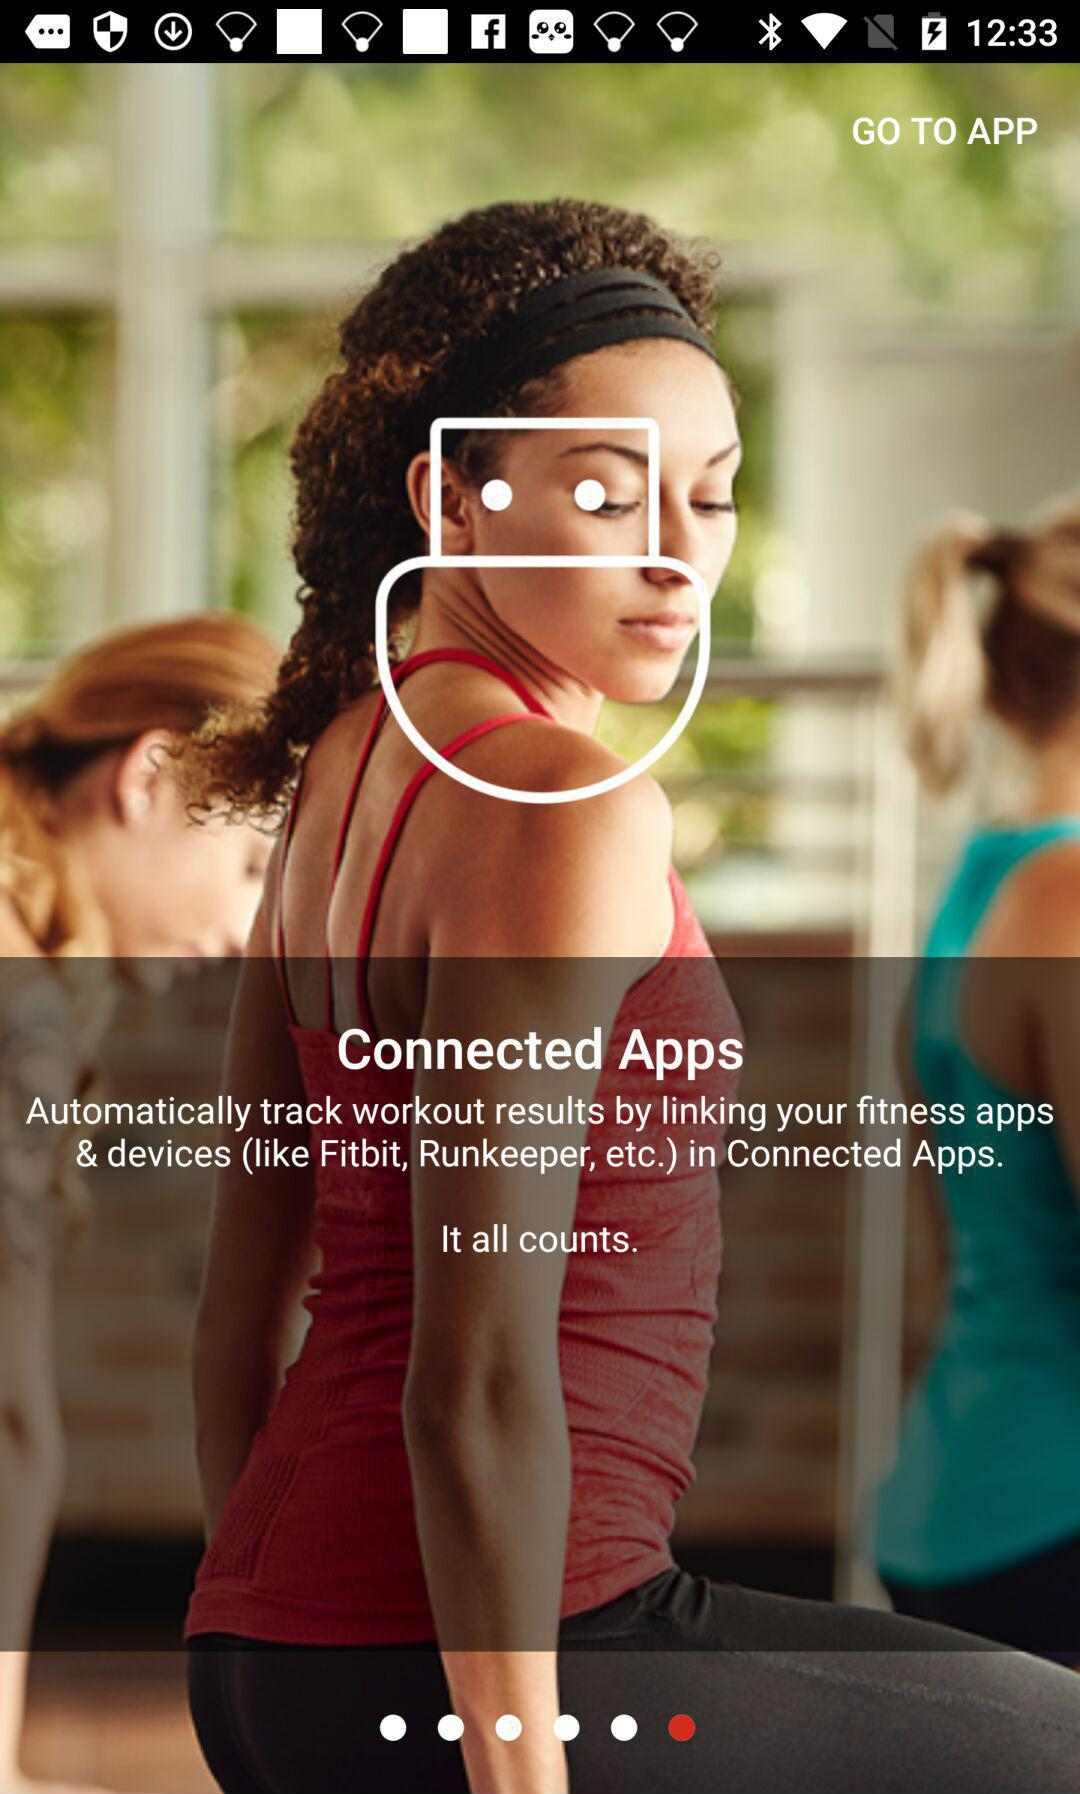BackgroundImage: (1, 65, 1080, 1794)
Image: (374, 416, 714, 805)
PageIndicator: (379, 1713, 697, 1743)
Text: (26, 1096, 1054, 1178), (338, 1026, 746, 1083), (442, 1222, 639, 1255), (852, 117, 1042, 149)
UpperTaskBar: (1, 1, 1080, 64)
